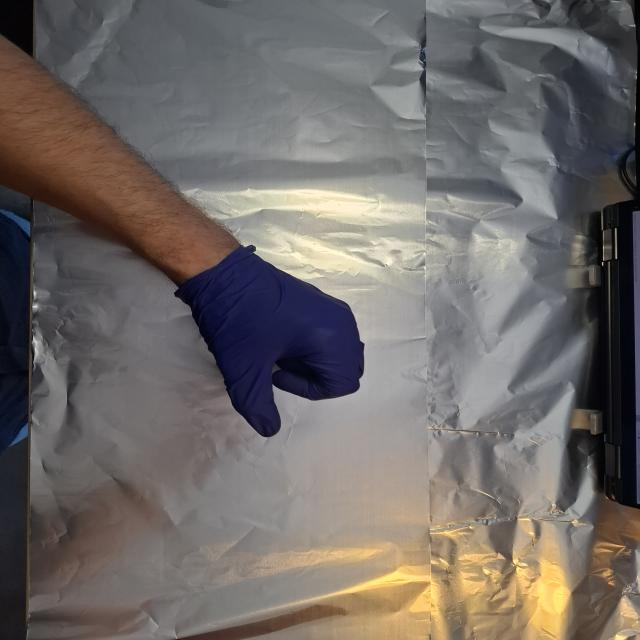glove_on: (178, 247, 369, 440)
